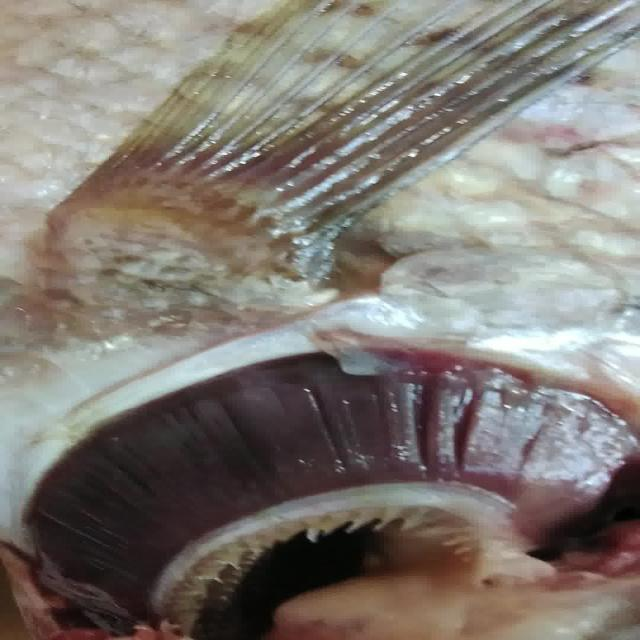Non-Fresh: (18, 343, 614, 618)
